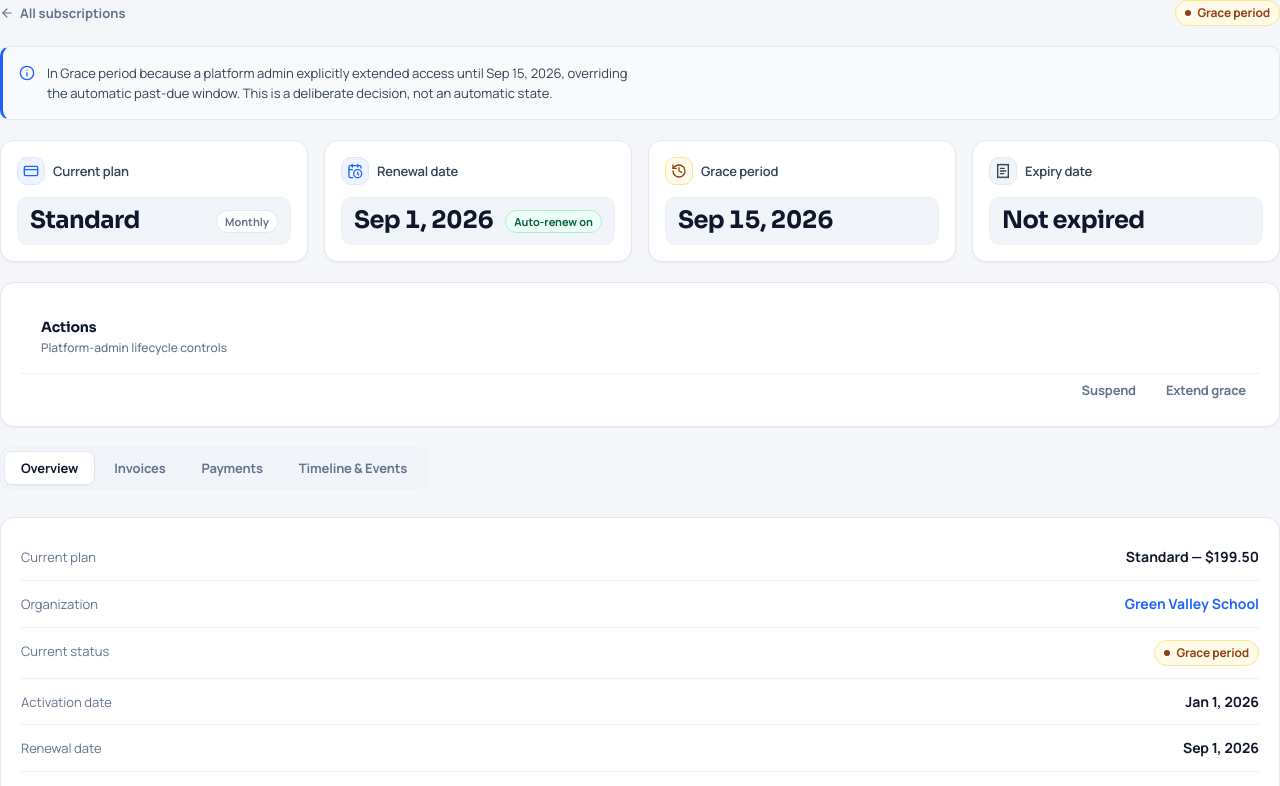
Test: SubscriptionDetailsPage › switches to Payments and shows the payment resolved from this subscription's invoices
Expected: the link "Green Valley School" is shown, [1125,594,1259,613]
Click the tab "Payments".
click(232, 468)  # box [185,451,280,485]
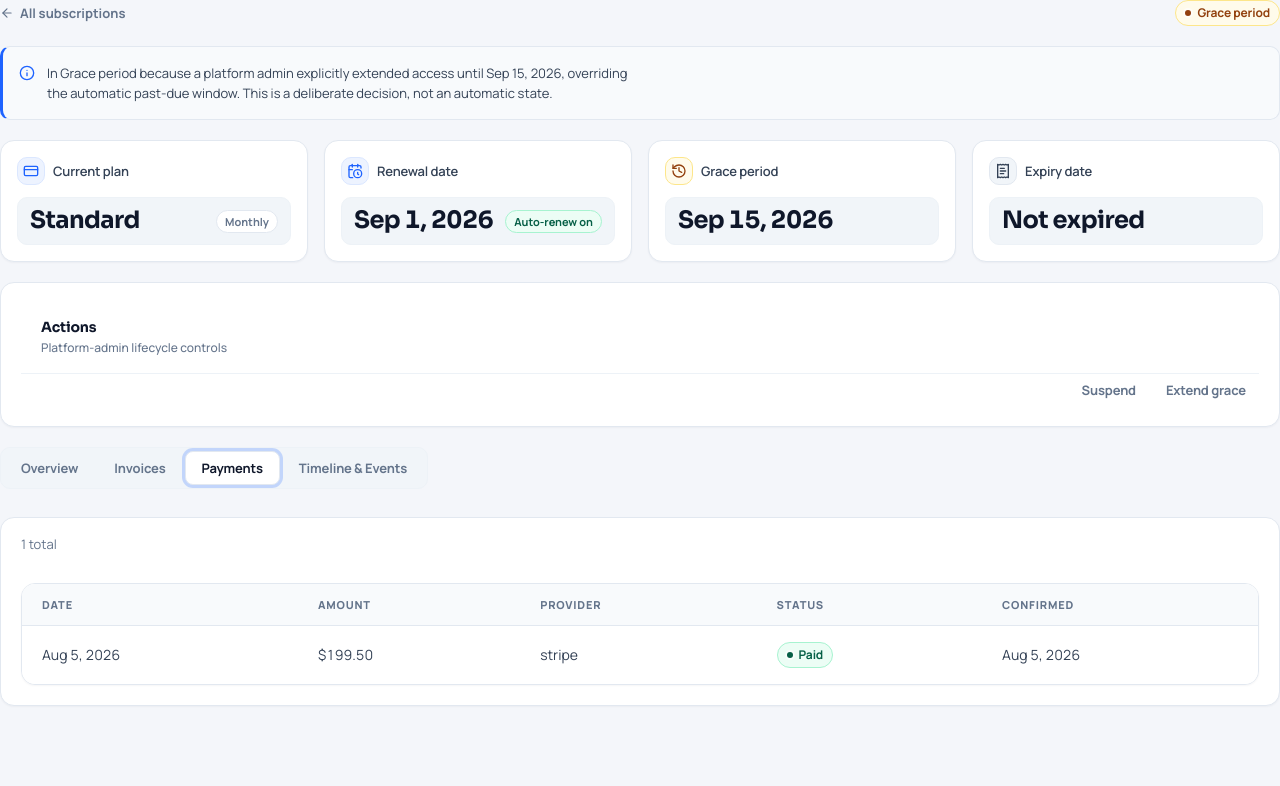
Expected: the text "stripe" is shown, [520,625,757,684]
